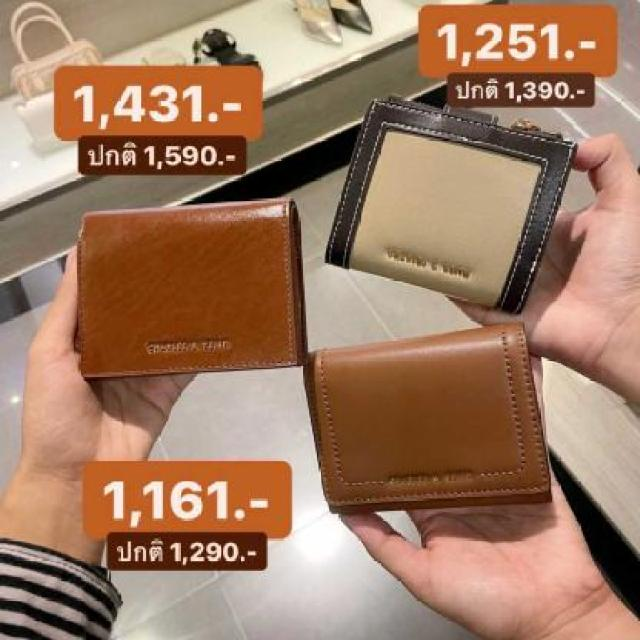Bag: (312, 84, 586, 322), (290, 330, 579, 538), (46, 196, 314, 402)
